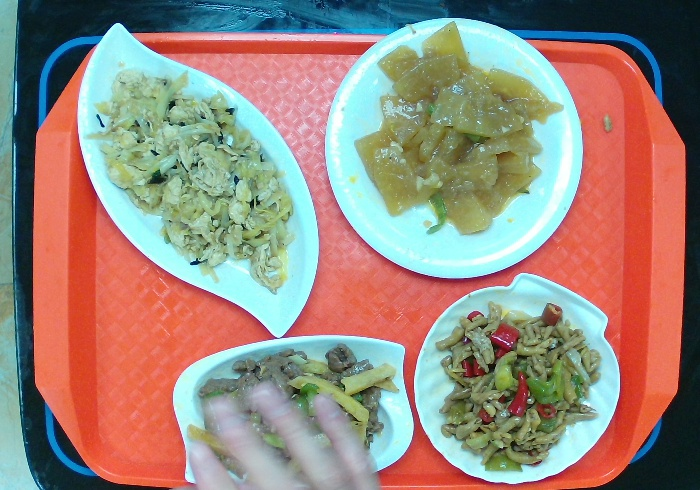RJxy-Bei_Ke_Wan: (406, 262, 624, 489)
RJxy-Jian_Jiao_Fang_Die: (164, 331, 421, 484)
RJxy-Jian_Jiao_Pan: (73, 16, 325, 344)
RJxy-Yuan_Pan: (322, 15, 586, 286)
